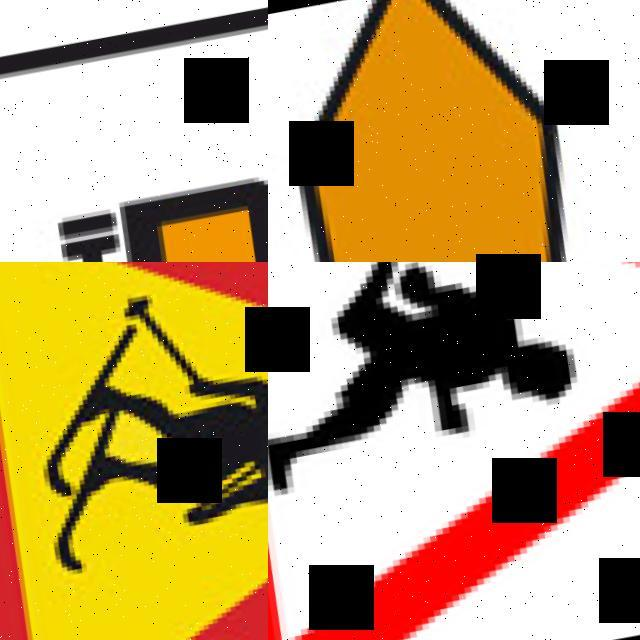156: (0, 262, 268, 640)
24: (268, 0, 640, 262)
95: (0, 0, 268, 262)
School: (268, 262, 640, 640)
